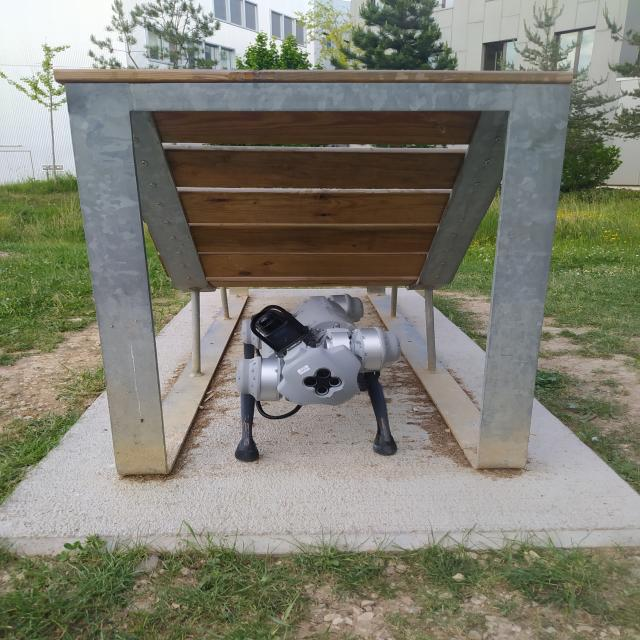unitree-go1-robot: (227, 275, 427, 485)
